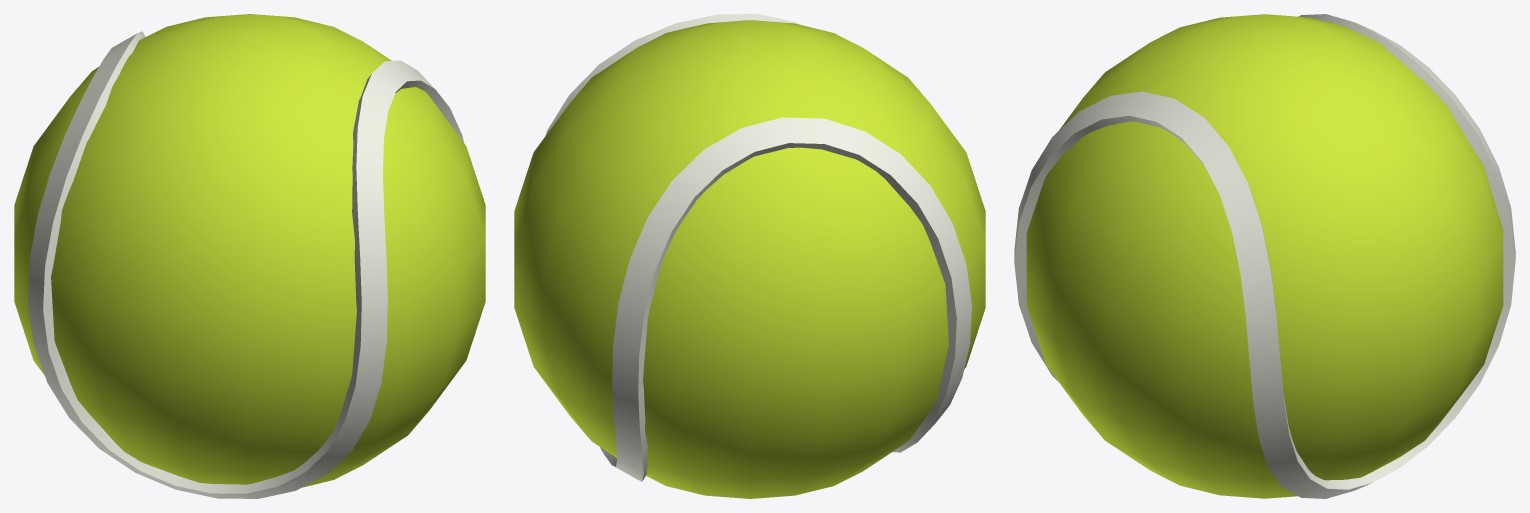
Rendered from tennis_ball.glb.
3 views of the same model, side by side, from view 1: azimuth 30°, elevation 25°; view 2: azimuth 150°, elevation 25°; view 3: azimuth 270°, elevation 25° (orthographic).
Parts seen in each view (by area): view 1: tennis_ball; view 2: tennis_ball; view 3: tennis_ball.
Part boxes in pixels (box(x1,y1,x2,y2)): tennis_ball: box(14, 14, 485, 498); tennis_ball: box(514, 14, 985, 498); tennis_ball: box(1014, 14, 1515, 498).
Bounding box in the file's own units: 0.0687 × 0.067 × 0.0687.
